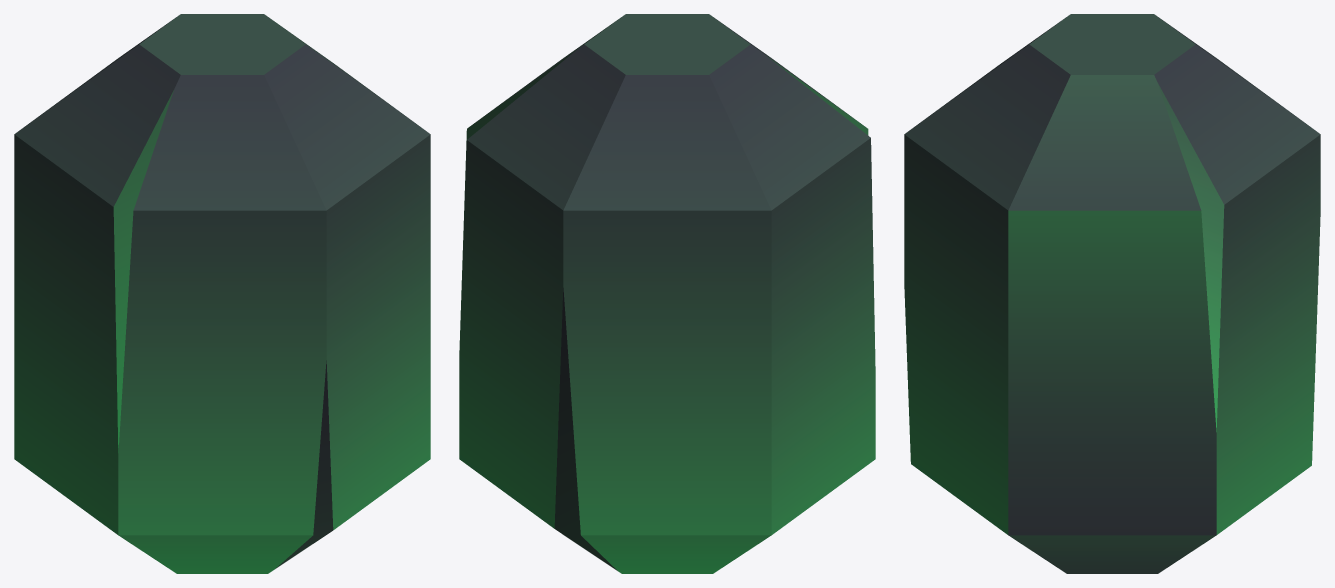
The model's file is Stone_farm_3.fbx.
The picture shows the model from 3 angles, left to right: view 1: azimuth 30°, elevation 25°; view 2: azimuth 150°, elevation 25°; view 3: azimuth 270°, elevation 25°; orthographic projection.
Parts seen in each view (by area): view 1: Cylinder.001; view 2: Cylinder.001; view 3: Cylinder.001.
Part boxes in pixels (x1=…): Cylinder.001: x1=14, y1=14, x2=430, y2=573; Cylinder.001: x1=459, y1=14, x2=875, y2=573; Cylinder.001: x1=904, y1=14, x2=1320, y2=573.
Size of the model in its own units: 0.5529 by 0.6384 by 0.8393.
